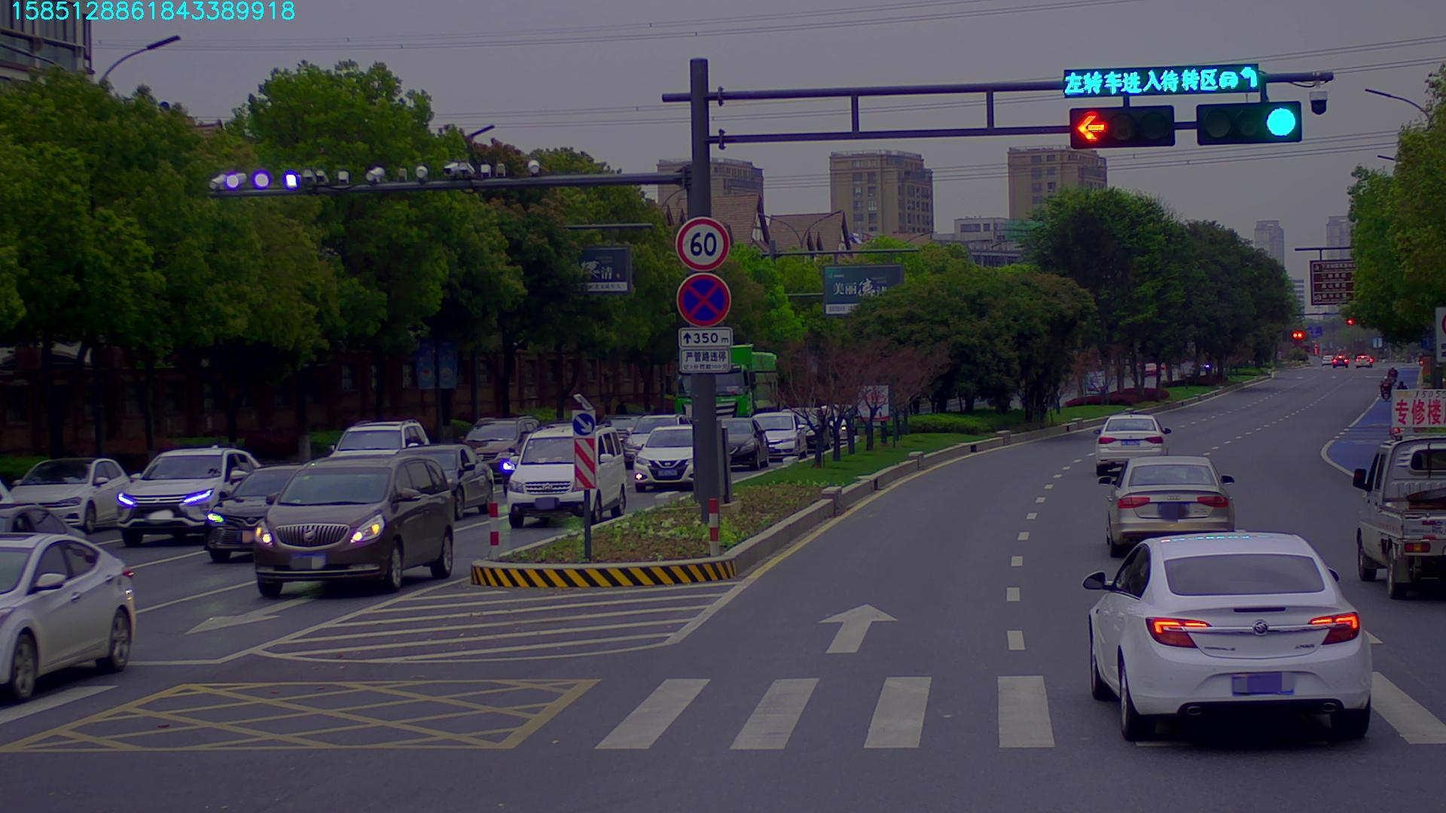green: (1197, 104, 1303, 142)
red: (1066, 109, 1169, 146)
wait_on: (1066, 65, 1258, 89)
